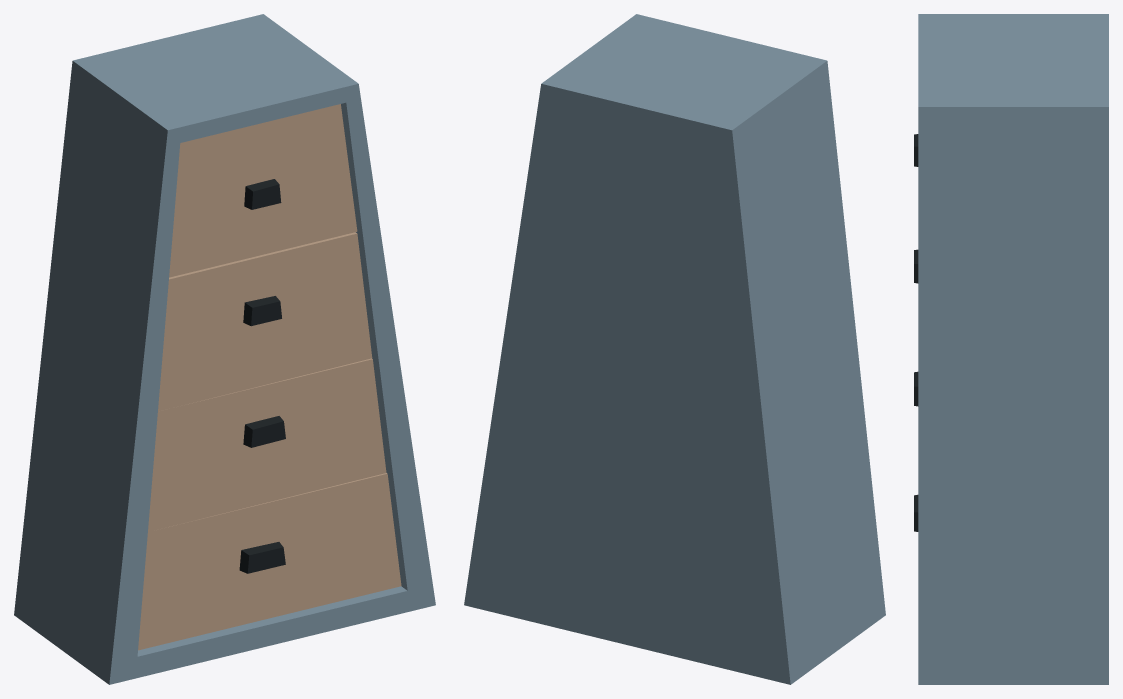
The model's file is fork locker static.fbx.
The picture shows the model from 3 angles, left to right: view 1: azimuth 30°, elevation 25°; view 2: azimuth 150°, elevation 25°; view 3: azimuth 270°, elevation 25°; orthographic projection.
Parts seen in each view (by area): view 1: locker fork room, locker fork room door 4, locker fork room door 3, locker fork room door 2, locker fork room door 1; view 2: locker fork room; view 3: locker fork room.
Part boxes in pixels (<box>): locker fork room: <box>14,14,435,684</box>; locker fork room door 4: <box>138,473,401,650</box>; locker fork room door 3: <box>148,358,386,531</box>; locker fork room door 2: <box>158,232,372,411</box>; locker fork room door 1: <box>169,104,357,277</box>; locker fork room: <box>464,14,885,684</box>; locker fork room: <box>918,14,1108,684</box>.
Bounding box in the file's own units: 0.9707 × 1.53 × 0.5015.
